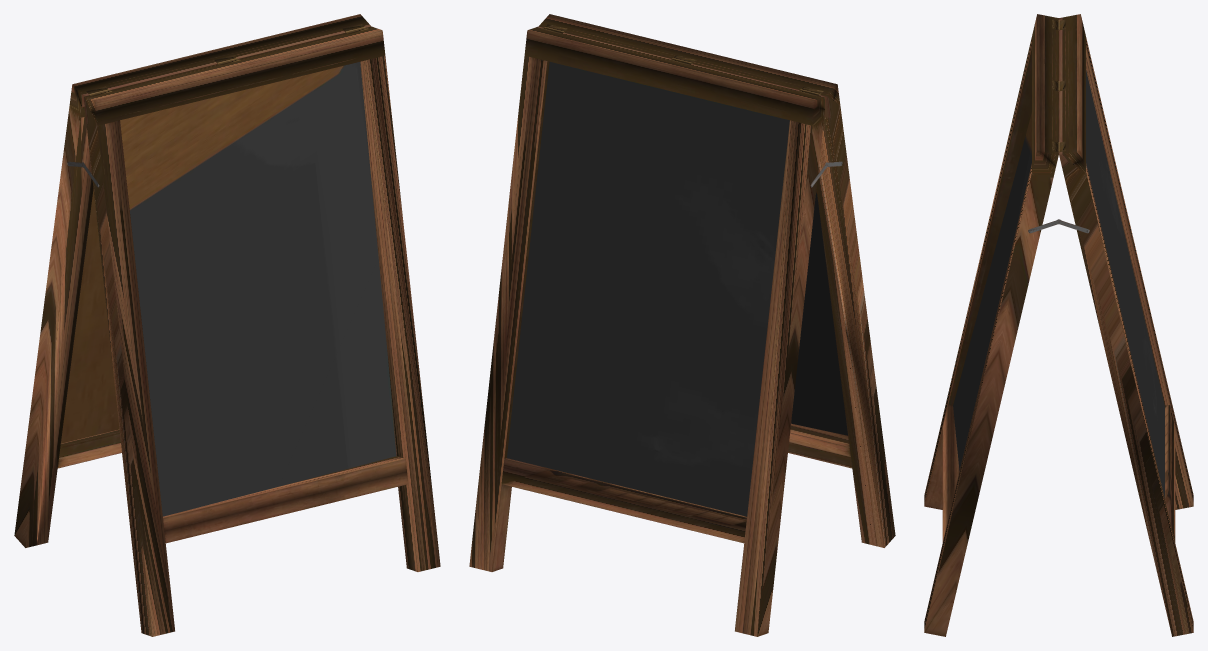
File: standing_chalkboard_01.glb
3 renders of one model, left to right at view 1: azimuth 30°, elevation 25°; view 2: azimuth 150°, elevation 25°; view 3: azimuth 270°, elevation 25°, orthographic. The views are drawn at different scales.
Parts seen in each view (by area): view 1: standing_chalkboard_01; view 2: standing_chalkboard_01; view 3: standing_chalkboard_01.
Part boxes in pixels (bbox=[...]): standing_chalkboard_01: bbox=[14, 14, 440, 636]; standing_chalkboard_01: bbox=[469, 14, 895, 636]; standing_chalkboard_01: bbox=[924, 14, 1193, 636].
Size of the model in its own units: 0.9195 by 1.51 by 0.7587.
Materials: 2 (2 with a texture image).
